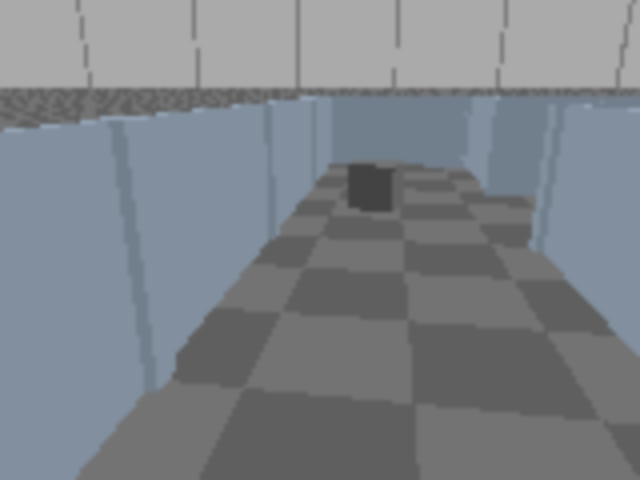obstacle: (347, 159, 406, 214)
